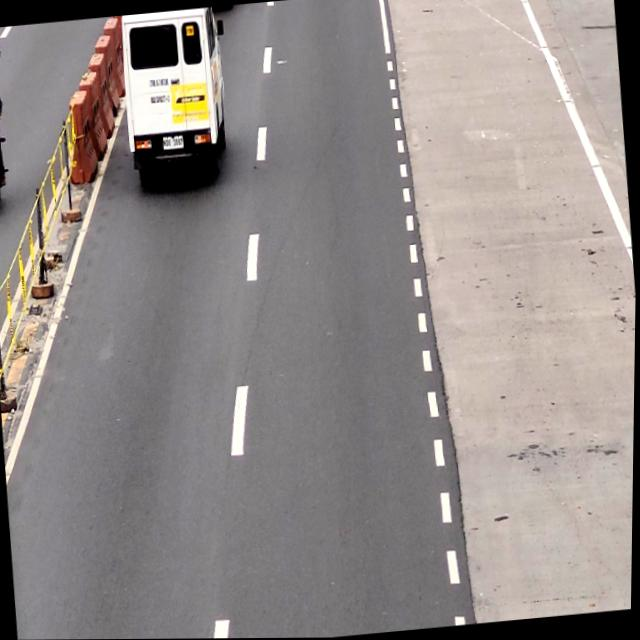Car: (116, 7, 231, 192)
License-Plate: (160, 131, 186, 155)
